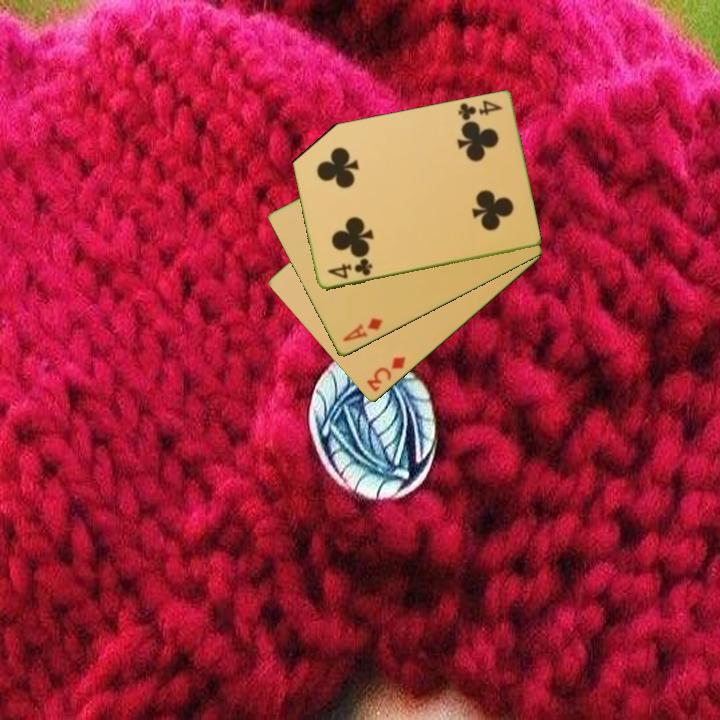3d: (363, 353, 409, 395)
4c: (454, 97, 505, 124), (324, 256, 375, 282)
Ad: (339, 315, 386, 345)
